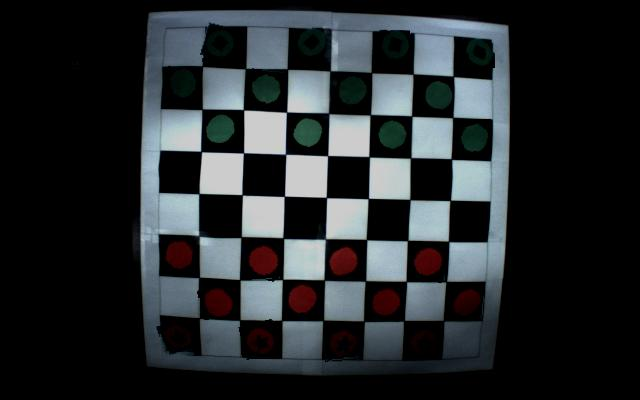G: (202, 24, 240, 62), (294, 27, 331, 61), (376, 30, 411, 63), (463, 37, 495, 68)
R: (240, 321, 279, 359), (158, 320, 194, 358), (324, 328, 359, 362), (408, 327, 438, 360)
g: (334, 74, 370, 110), (249, 69, 285, 104), (291, 115, 325, 150), (374, 118, 409, 152), (205, 112, 239, 146), (164, 67, 197, 102), (459, 120, 492, 154), (423, 78, 455, 112)
r: (241, 243, 280, 281), (411, 243, 448, 282), (368, 283, 405, 321), (198, 284, 236, 319), (161, 239, 196, 274), (327, 244, 362, 279), (451, 286, 485, 321), (284, 286, 318, 320)
